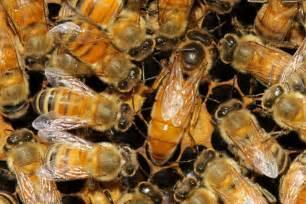Queen-Bee: (147, 29, 215, 164)
worker-bee: (49, 18, 140, 91), (33, 68, 133, 131), (215, 98, 289, 177), (39, 130, 138, 181), (194, 148, 275, 203), (4, 128, 60, 203), (218, 33, 291, 85), (0, 0, 53, 68), (0, 5, 29, 118), (262, 84, 305, 142)
